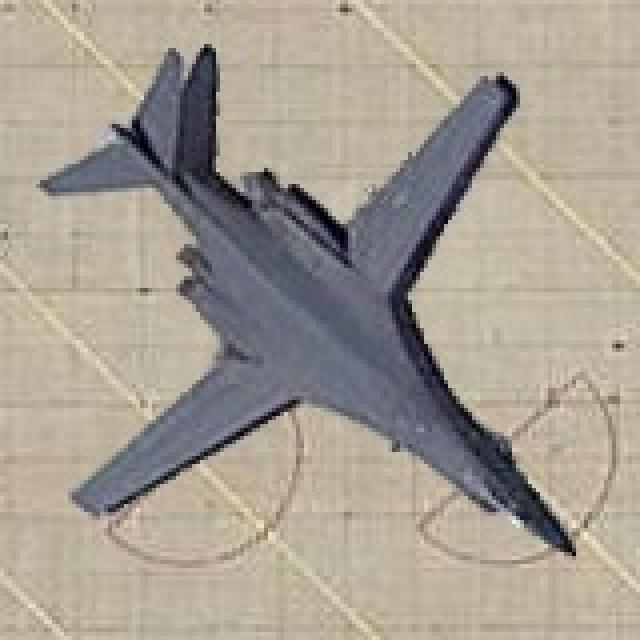B-1_TopDown: (32, 36, 580, 564)
